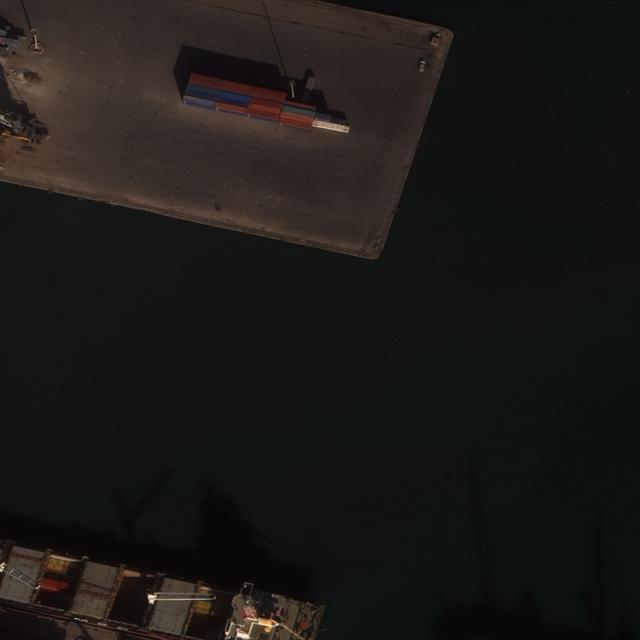Cargo: (1, 540, 337, 638)
